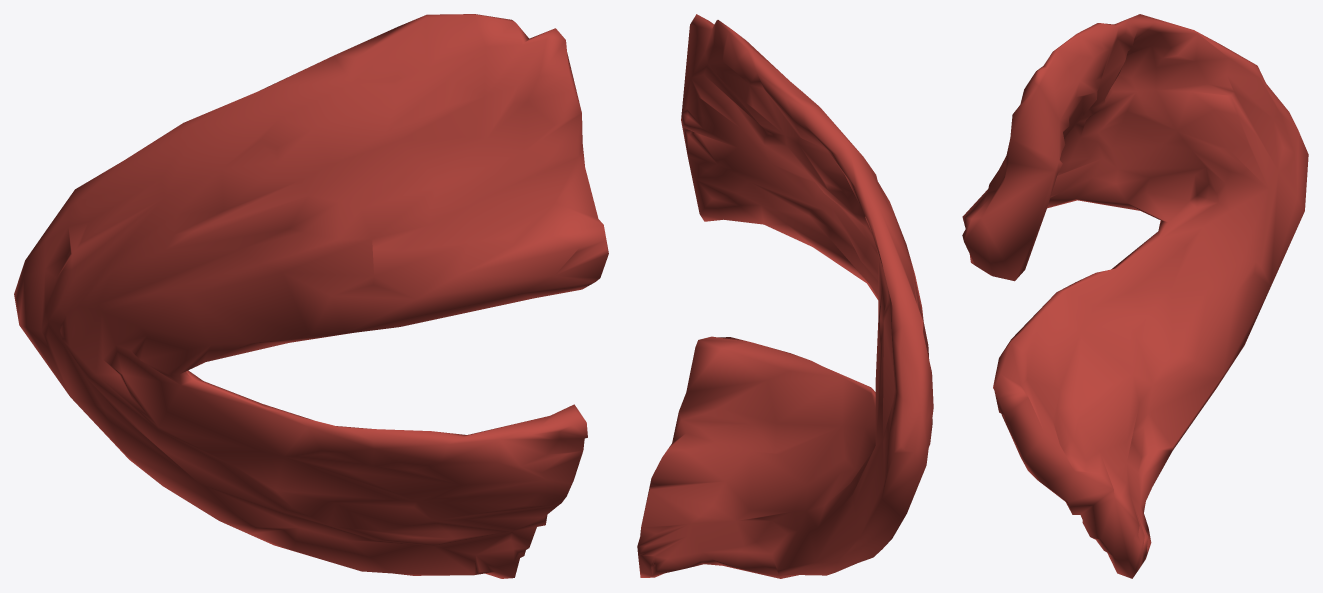
Rendered from musculos-orbicularis-oris-muscle-r.glb.
3 renders of one model, left to right at view 1: azimuth 30°, elevation 25°; view 2: azimuth 150°, elevation 25°; view 3: azimuth 270°, elevation 25°, orthographic. The views are drawn at different scales.
Visible parts, largest first — view 1: Orbicularis oris muscle.r; view 2: Orbicularis oris muscle.r; view 3: Orbicularis oris muscle.r.
Boxes of the visible parts, x1,y1,x2,y2 form: Orbicularis oris muscle.r: (14,14,608,578); Orbicularis oris muscle.r: (637,14,933,578); Orbicularis oris muscle.r: (962,14,1308,578).
Size of the model in its own units: 0.0321 by 0.0454 by 0.0276.
